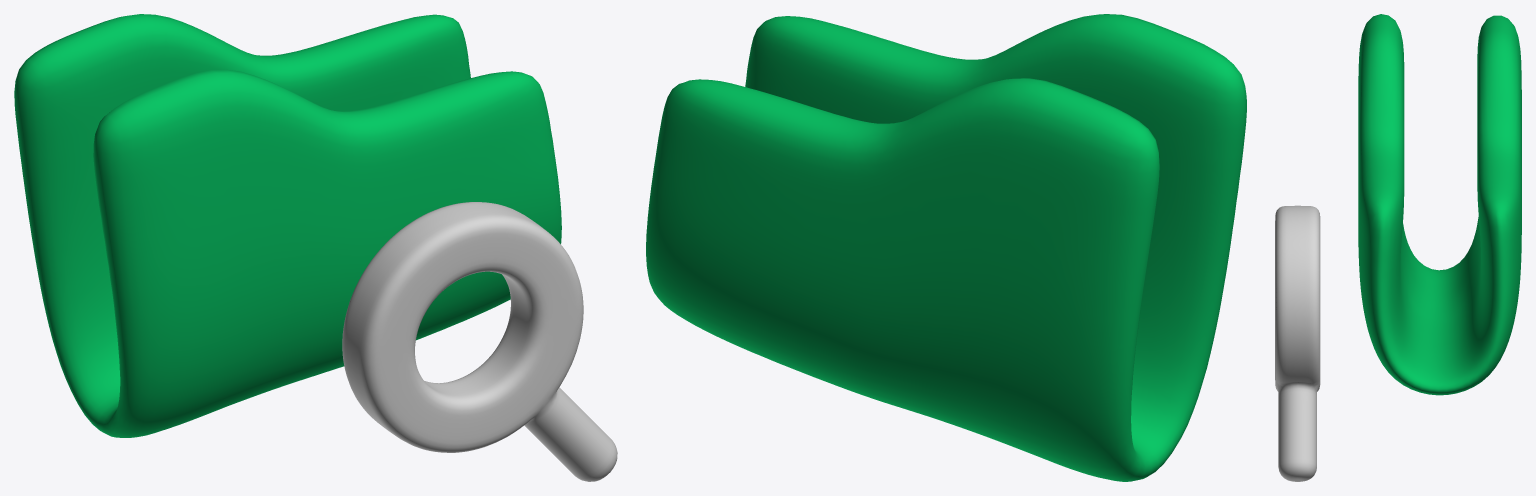
Rendered from searching-animated-3d-icon-1577228962498.glb.
3 views of the same model, side by side, from view 1: azimuth 30°, elevation 25°; view 2: azimuth 150°, elevation 25°; view 3: azimuth 270°, elevation 25° (orthographic). The views are drawn at different scales.
Visible parts, largest first — view 1: Folder.001, Magnifying Glass.001; view 2: Folder.001; view 3: Folder.001, Magnifying Glass.001.
Boxes of the visible parts, x1,y1,x2,y2 form: Folder.001: [14, 14, 561, 437]; Magnifying Glass.001: [342, 202, 617, 481]; Folder.001: [646, 14, 1246, 481]; Folder.001: [1358, 14, 1521, 395]; Magnifying Glass.001: [1275, 205, 1320, 481].
Bounding box in the file's own units: 2.1 × 1.87 × 1.27.
